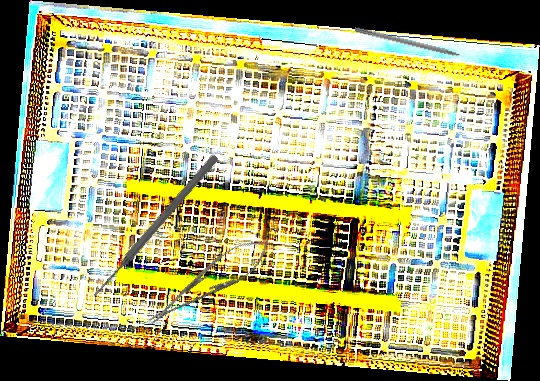Hook Surgical: (353, 26, 475, 63)
Needle Holder: (139, 226, 280, 337)
Pusher: (88, 152, 221, 302)
